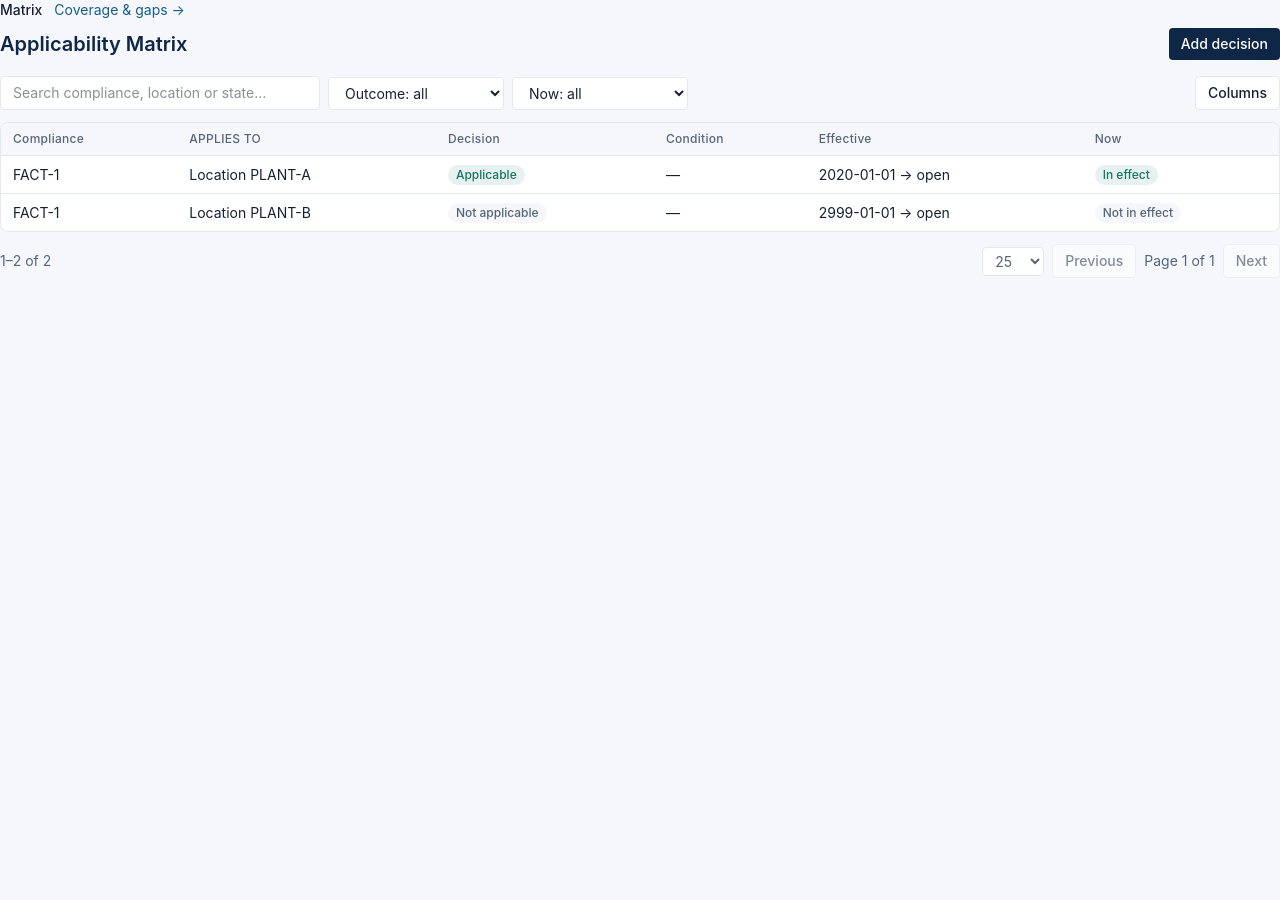
Test: Applicability Matrix › an in-effect decision cannot be edited: replace (with a reason) or end it
Click the text "FACT-1" next to "Location PLANT-A" at point(36, 174), box [1,156,177,194]
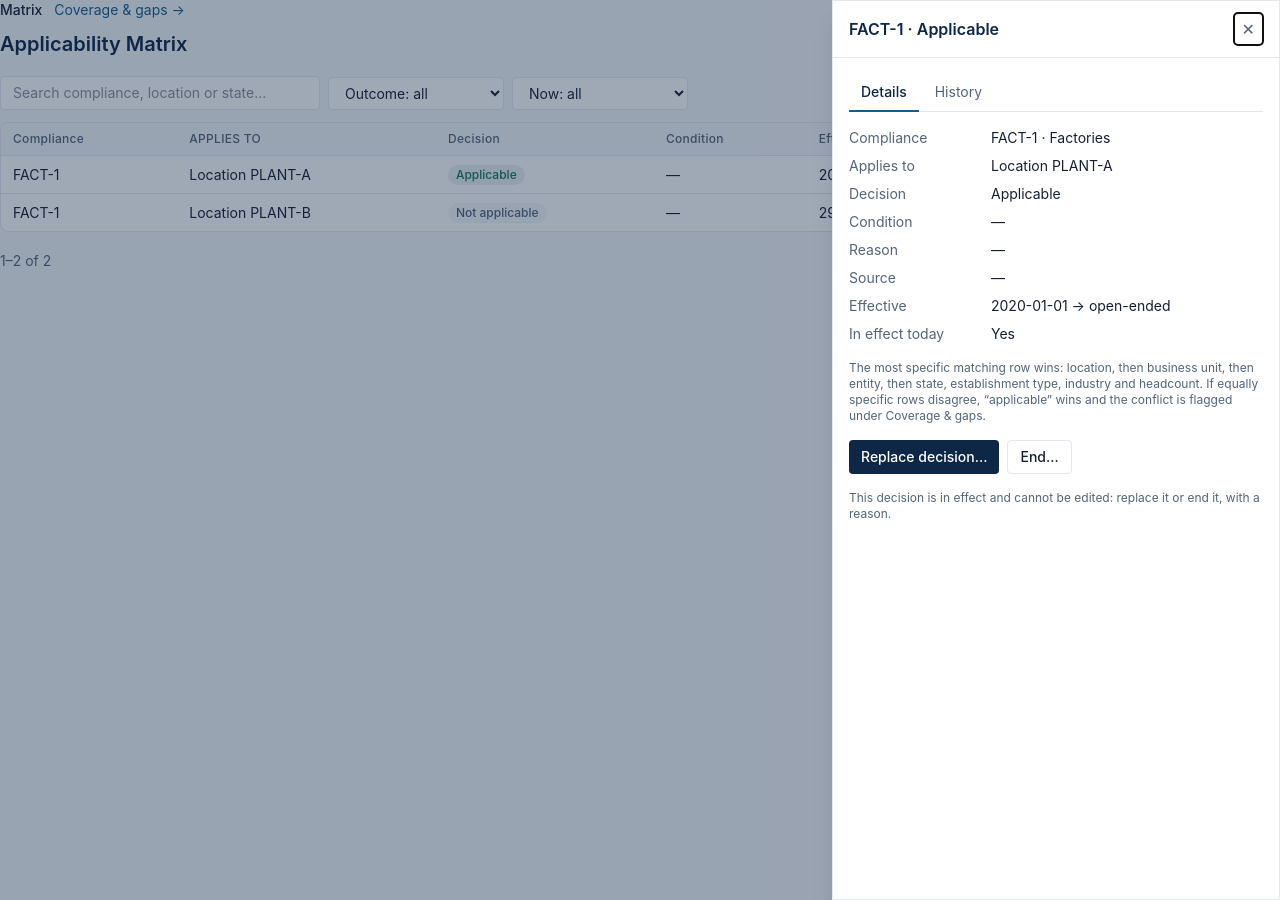
Check: the text "in effect and cannot be edited" is shown, box [849,490,1260,521]
Check: the button "Replace decision…" is shown, box [849,440,1000,474]
Check: the button "End…" is shown, box [1008,440,1072,474]
